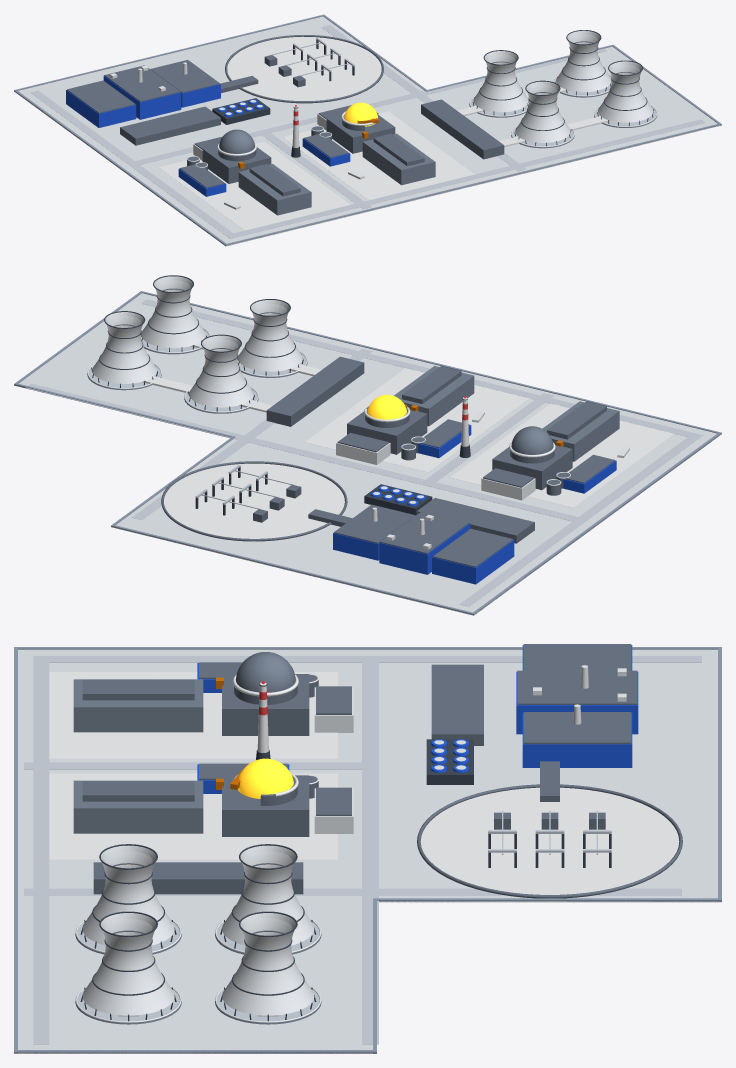
The model's file is npp.glb.
3 renders of one model, top to bottom at view 1: azimuth 30°, elevation 25°; view 2: azimuth 150°, elevation 25°; view 3: azimuth 270°, elevation 25°, orthographic. The views are drawn at different scales.
Parts seen in each view (by area): view 1: VVER1200_NPP_Complex, VVER1200_Admin_Complex, VVER1200_Unit_1_SW, VVER1200_Unit_2_NE; view 2: VVER1200_NPP_Complex, VVER1200_Admin_Complex, VVER1200_Unit_1_SW, VVER1200_Unit_2_NE; view 3: VVER1200_NPP_Complex, VVER1200_Admin_Complex, VVER1200_Unit_2_NE, VVER1200_Unit_1_SW.
Boxes of the visible parts, x1,y1,x2,y2 form: VVER1200_NPP_Complex: (14,14,721,246); VVER1200_Admin_Complex: (66,60,270,145); VVER1200_Unit_1_SW: (178,129,311,215); VVER1200_Unit_2_NE: (302,102,435,185); VVER1200_NPP_Complex: (14,275,721,615); VVER1200_Admin_Complex: (333,484,534,584); VVER1200_Unit_1_SW: (481,401,629,500); VVER1200_Unit_2_NE: (336,366,484,464); VVER1200_NPP_Complex: (14,647,721,1053); VVER1200_Admin_Complex: (426,644,638,784); VVER1200_Unit_2_NE: (73,758,353,836); VVER1200_Unit_1_SW: (73,652,353,735).
Bounding box in the file's own units: 1920 × 191 × 1420.
